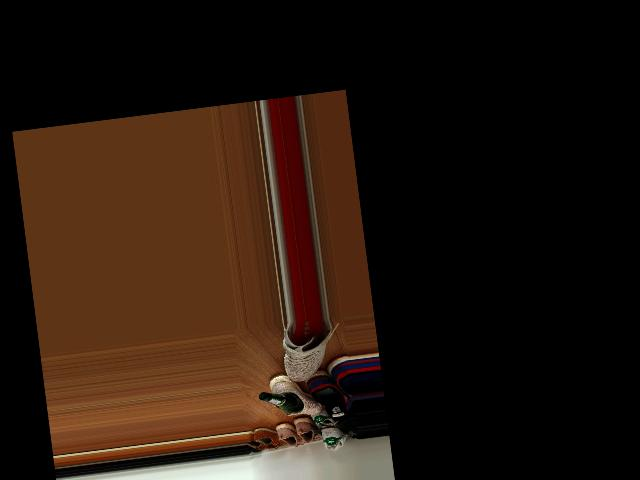beer: (257, 387, 304, 416)
